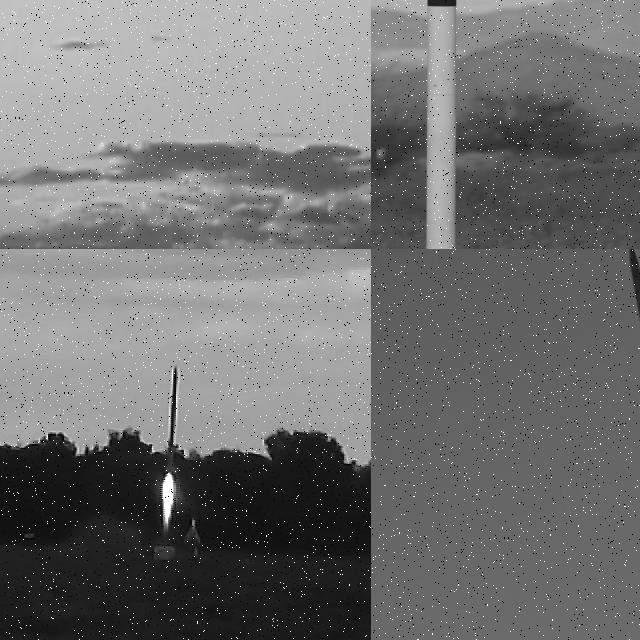Rocket: (372, 0, 496, 249), (627, 249, 640, 398), (164, 366, 181, 474), (182, 518, 202, 546)
